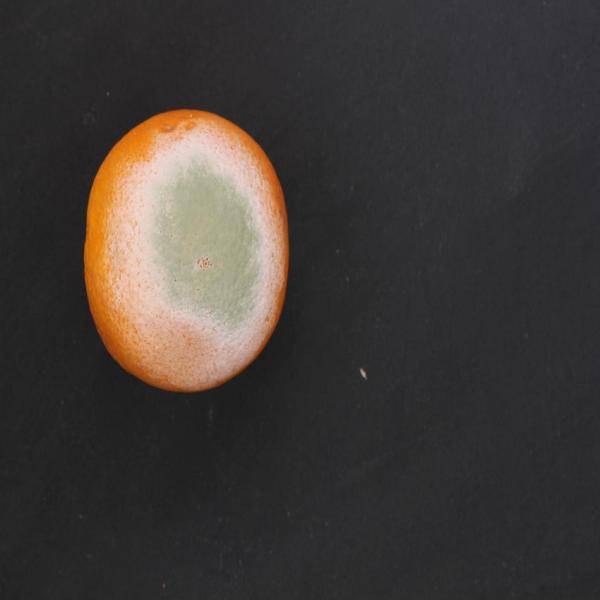Moho verde: (81, 88, 300, 401)
